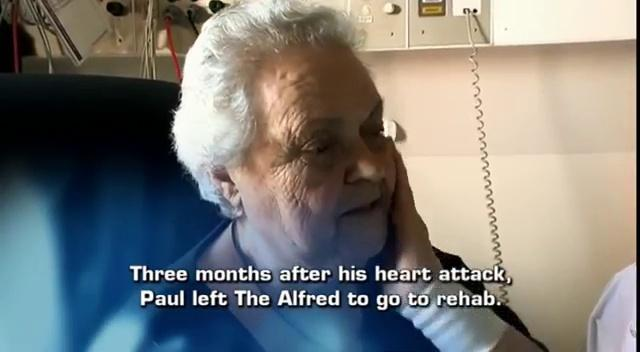patient: (135, 1, 550, 351)
